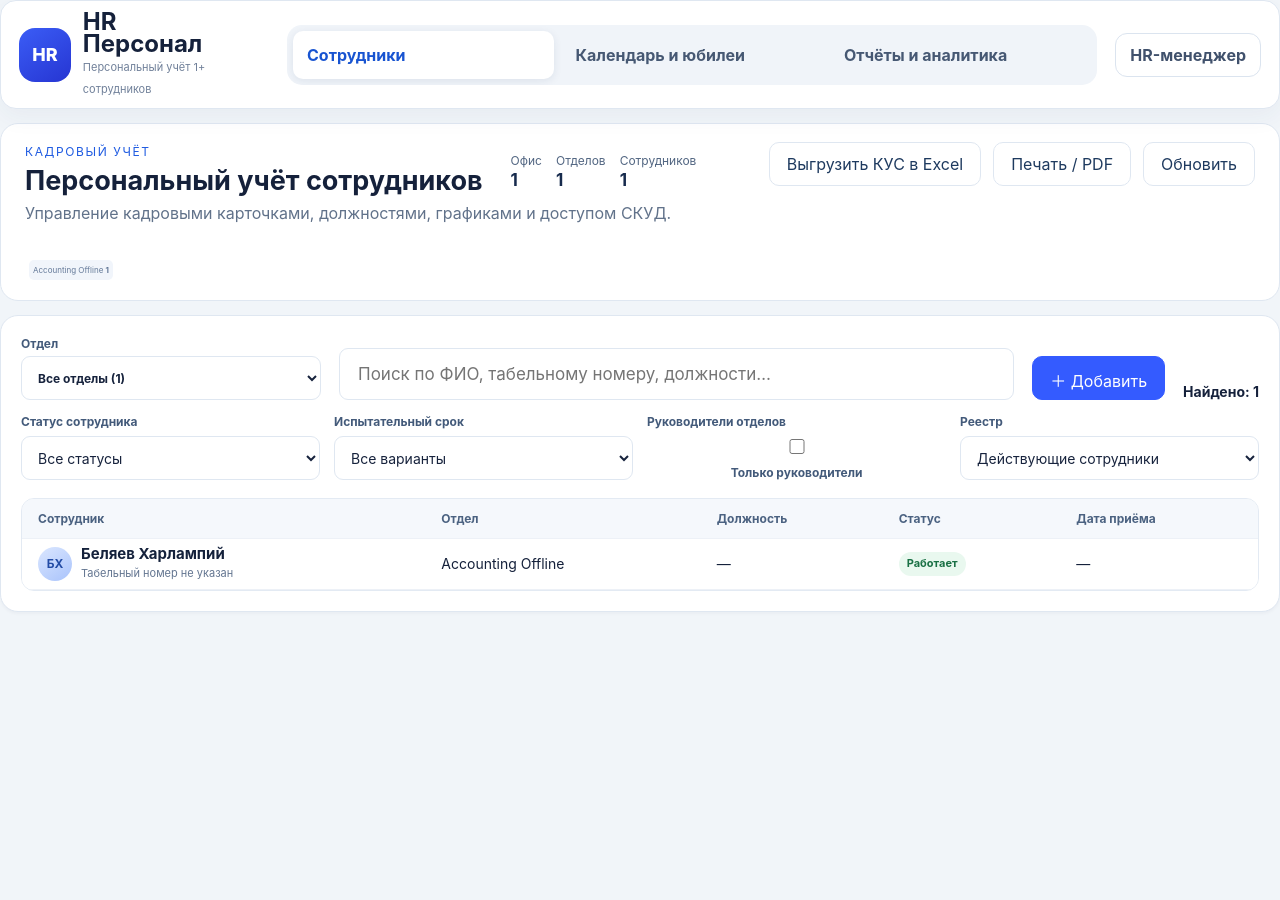
Scenario: Кадровое рабочее место › переключает разделы Сотрудники, Календарь и Отчёты в шапке кадрового учёта
Expected: the text "Беляев Харлампий" is shown, [81, 545, 233, 563]
Expected: the tab "Сотрудники" is shown, [293, 31, 554, 79]
Click the tab "Календарь и юбилеи" at (692, 55), box [562, 31, 823, 79]
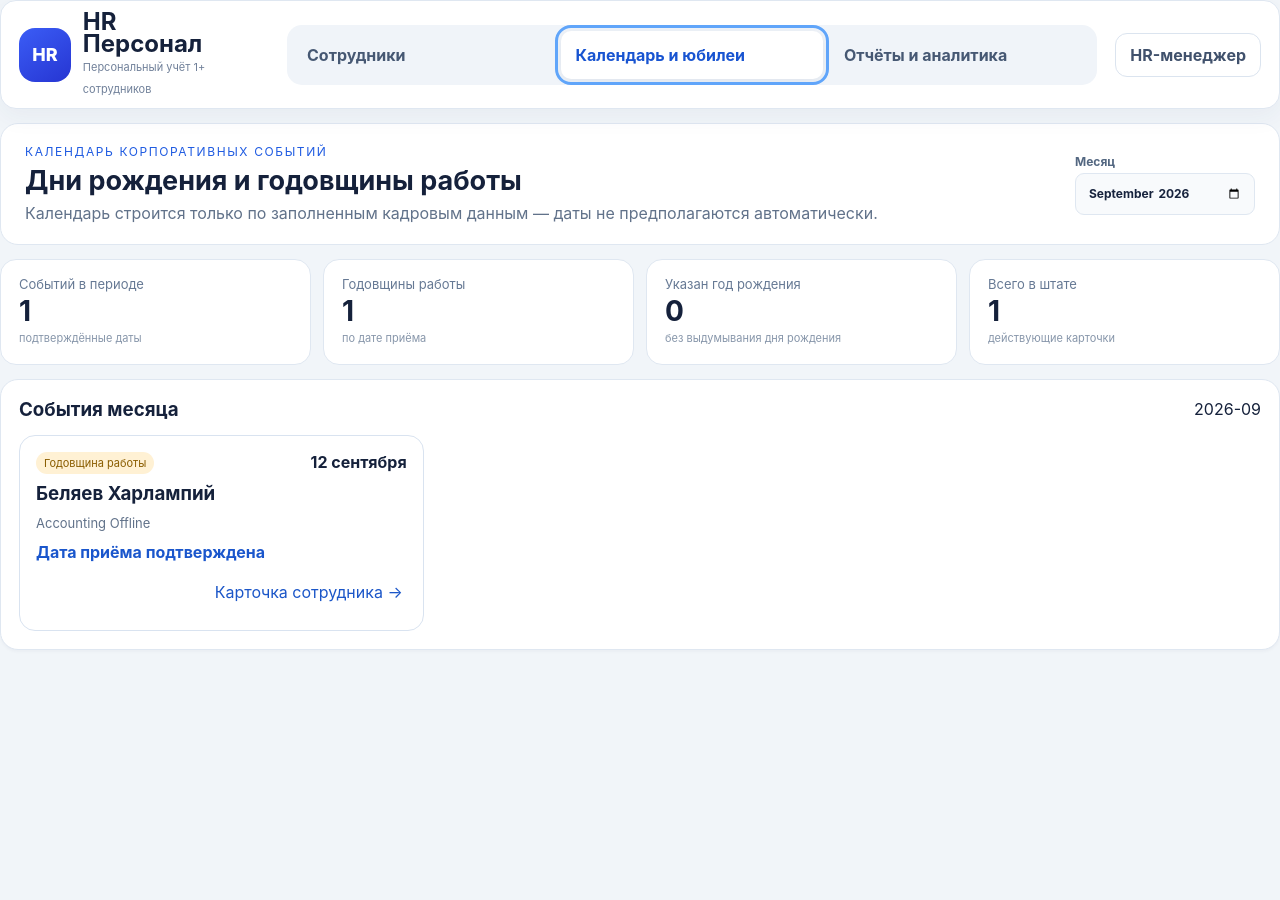
Expected: the heading "Дни рождения и годовщины работы" is shown, [25, 164, 522, 196]
Expected: the text "12 сентября" is shown, [310, 452, 407, 474]
Click the tab "Отчёты и аналитика" at (961, 55), box [830, 31, 1091, 79]
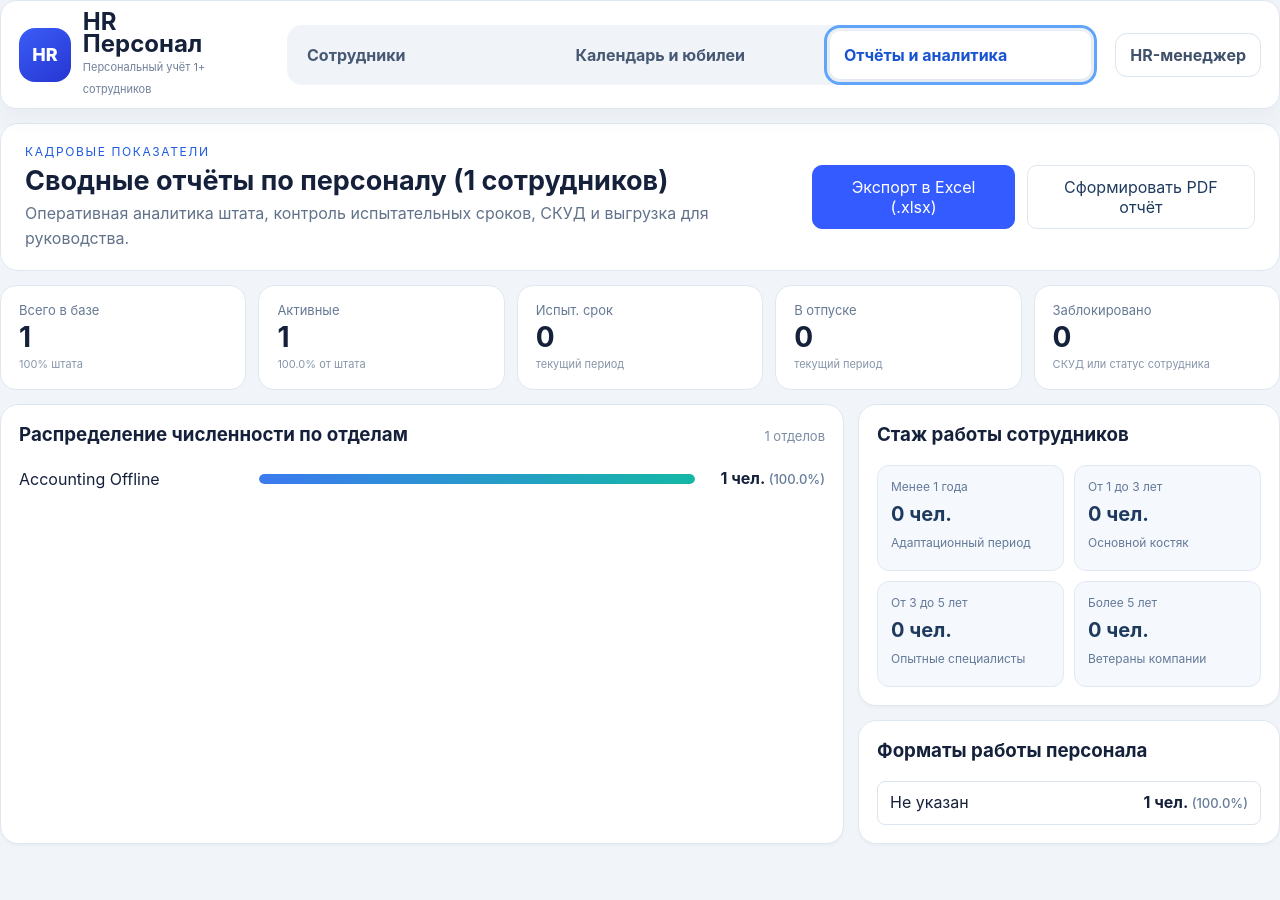
Expected: the heading "Сводные отчёты по персоналу (1 сотрудников)" is shown, [25, 164, 668, 196]
Expected: the text "Испыт. срок" is shown, [536, 302, 613, 318]
